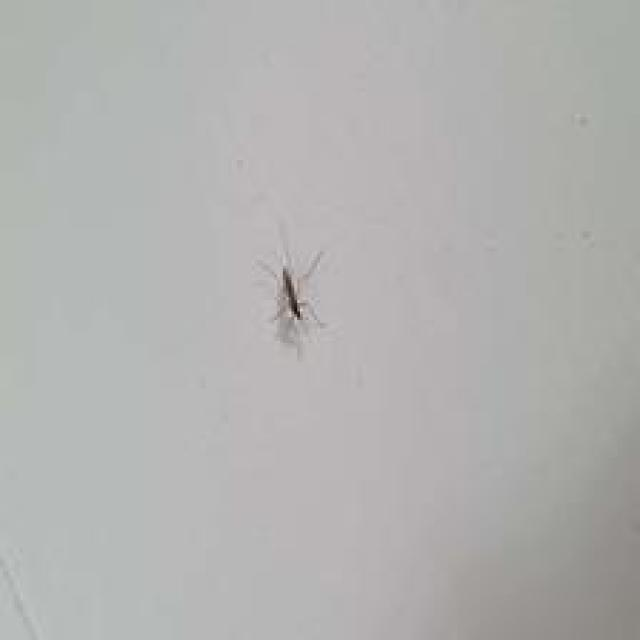Culex: (257, 244, 329, 356)
